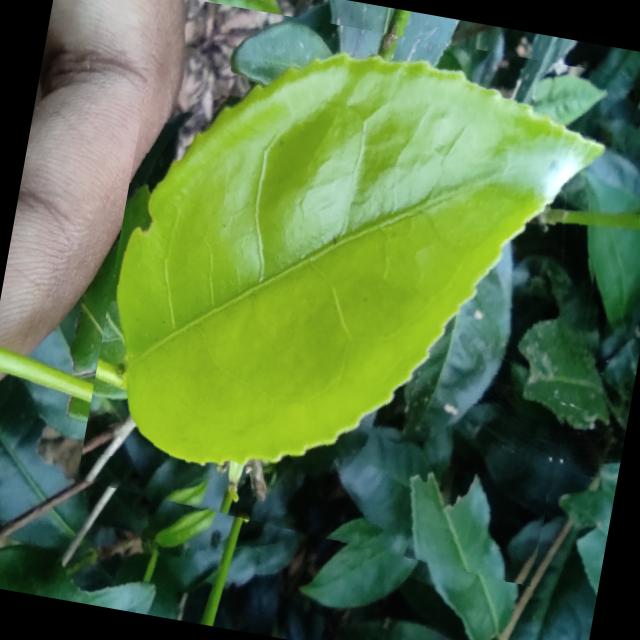Category C(4-7 days): (70, 0, 633, 589)
